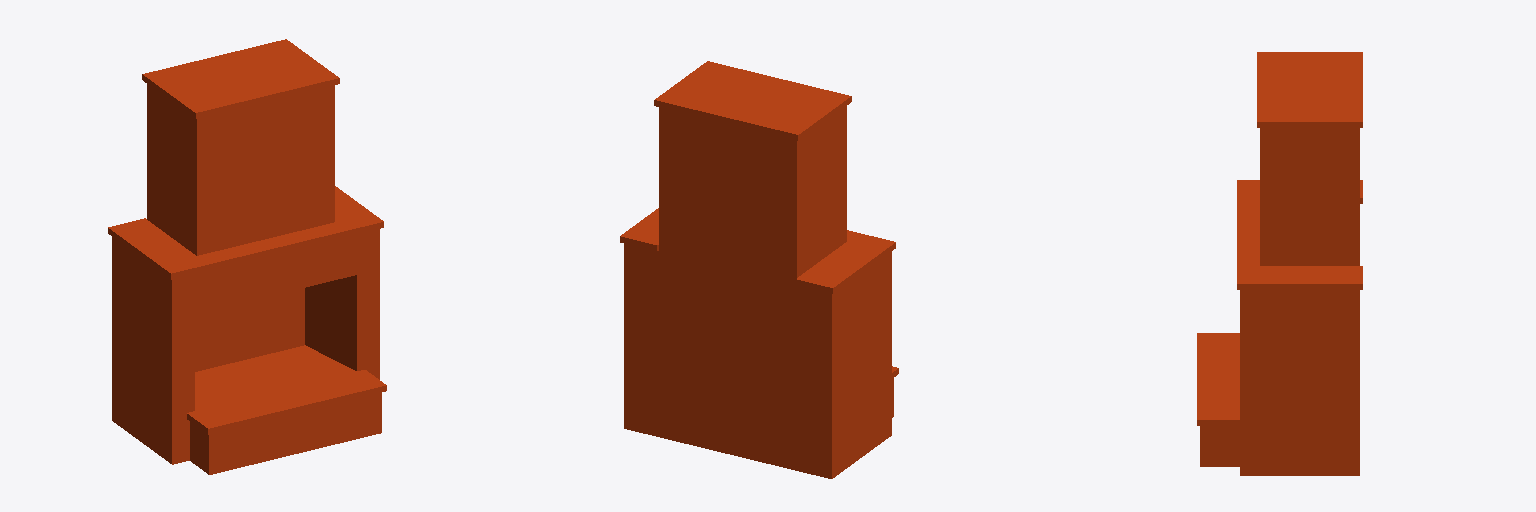
Rendered from chimenea.obj.
3 renders of one model, left to right at view 1: azimuth 30°, elevation 25°; view 2: azimuth 150°, elevation 25°; view 3: azimuth 270°, elevation 25°, orthographic.
Parts seen in each view (by area): view 1: chimenea; view 2: chimenea; view 3: chimenea.
Part boxes in pixels (bbox=[...]): chimenea: bbox=[108, 39, 386, 474]; chimenea: bbox=[620, 61, 898, 478]; chimenea: bbox=[1197, 52, 1362, 475].
Bounding box in the file's own units: 74 × 112 × 50.